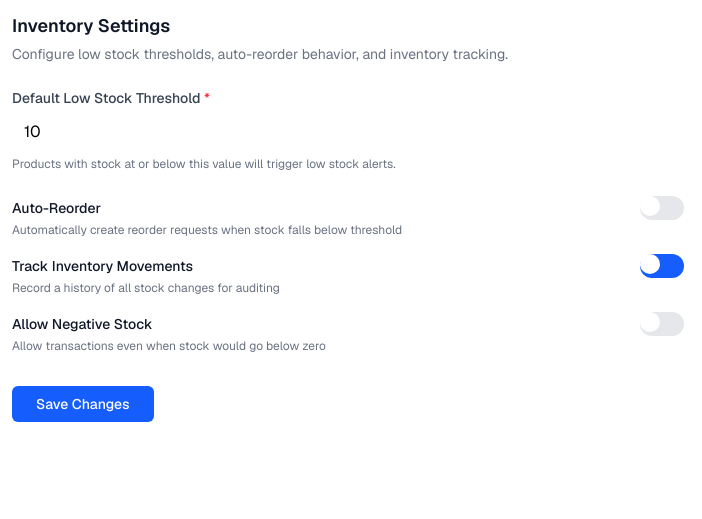
Test: InventorySettings › Renders all fields › renders auto-reorder quantity when auto-reorder is toggled on
Click the 1st switch named "auto-reorder" at {"x": 662, "y": 208}, box [640,196,684,220]
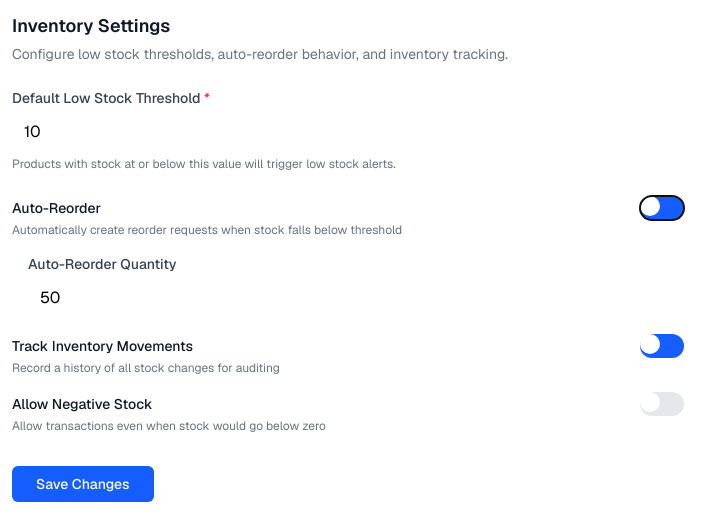
Check: the number field labelled "Auto-Reorder Quantity" is shown, box [28,278,684,318]
